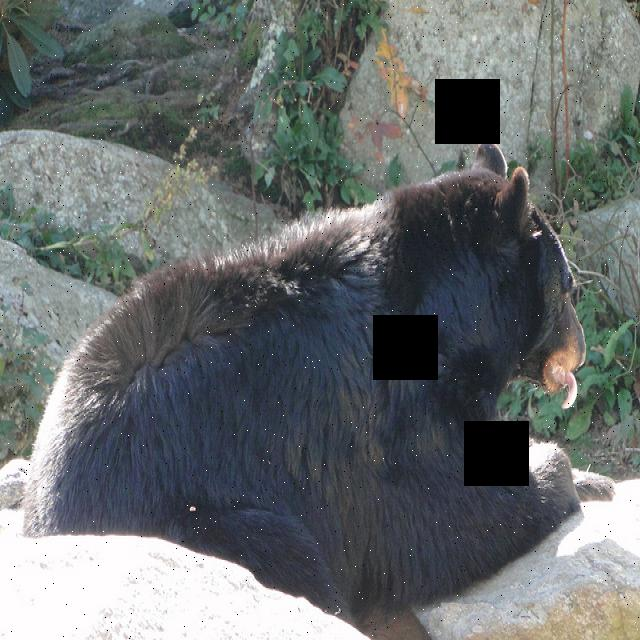Bear: (26, 136, 614, 582)
